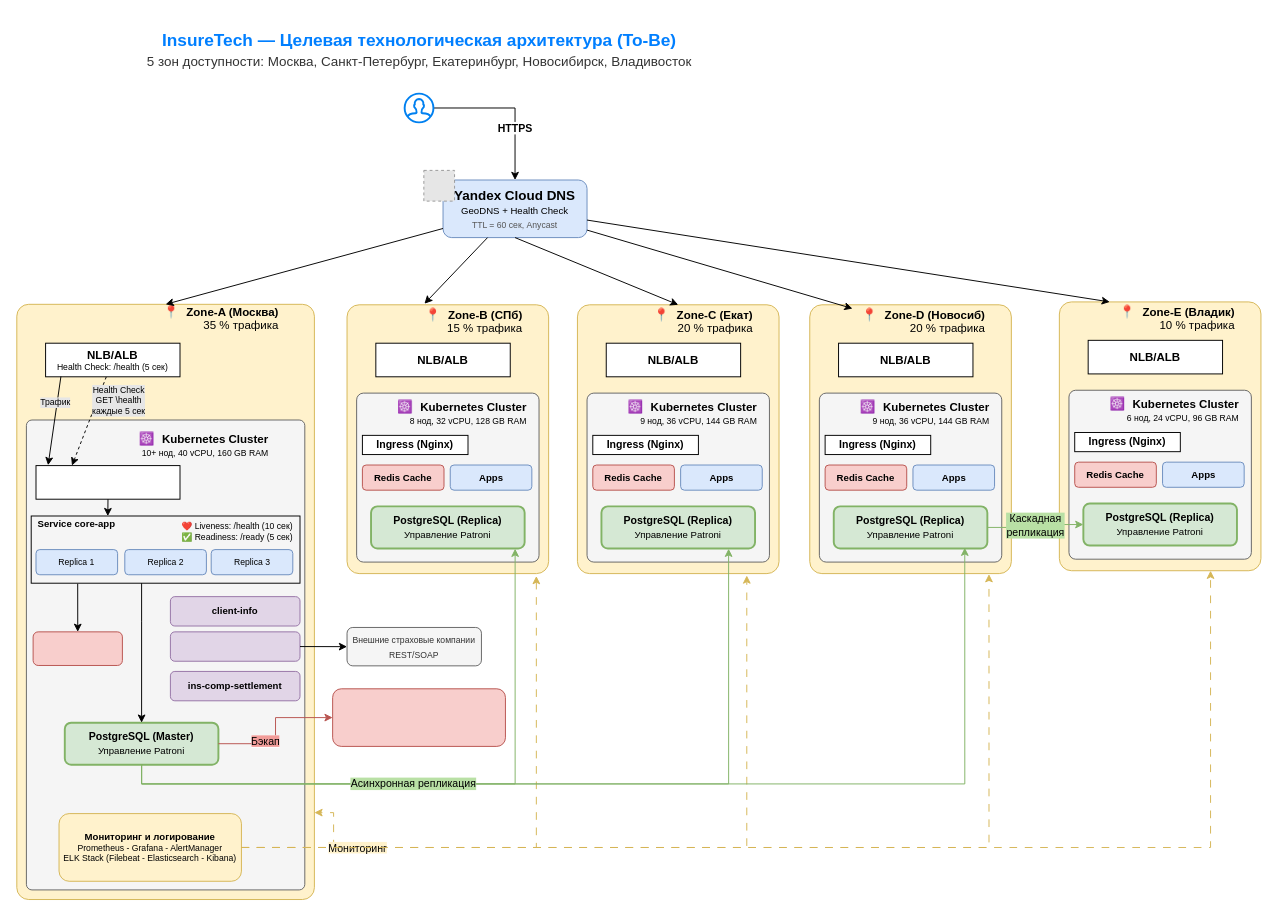
The diagram is 1278 pixels wide and 916 high, and some of its shapes have lost their labels. Grey dashed boxes stand in for pictures. Here are the shapes that lost their labels. From the top down, the centre of each, then its label:
the point at 418,107: Пользователи РФ
the point at 107,482: Ingress (Nginx) Rate Limiting: 50/20 RPS
the point at 77,648: Redis Cache 3 ноды, 4GB RAM
the point at 234,646: ins-product-aggregator
the point at 418,717: S3 / Object Storage Бэкапы БД (ежедневно) WAL-архивы (каждые 5 мин)
